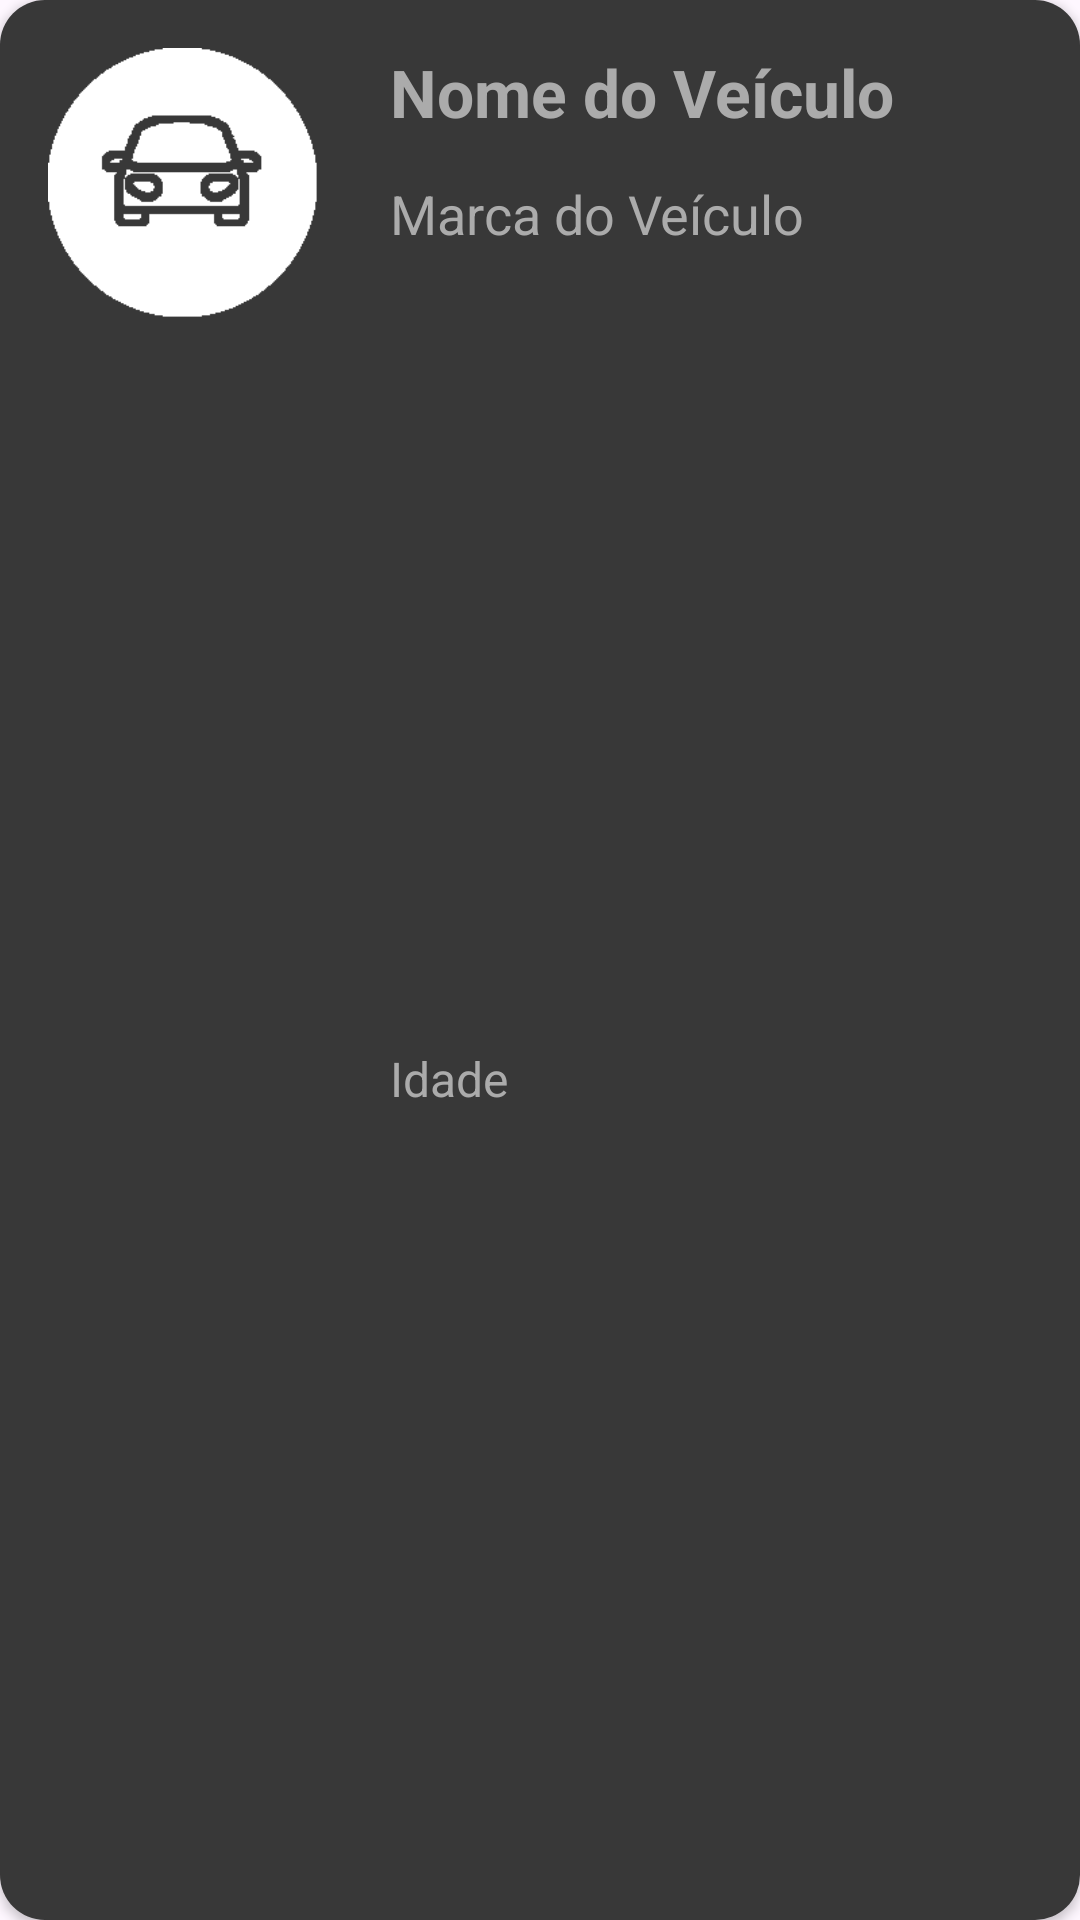

Where to tap for icons on this 1080×1920 app screen, as (x,y):
Vehicle Picture: (182,182)
